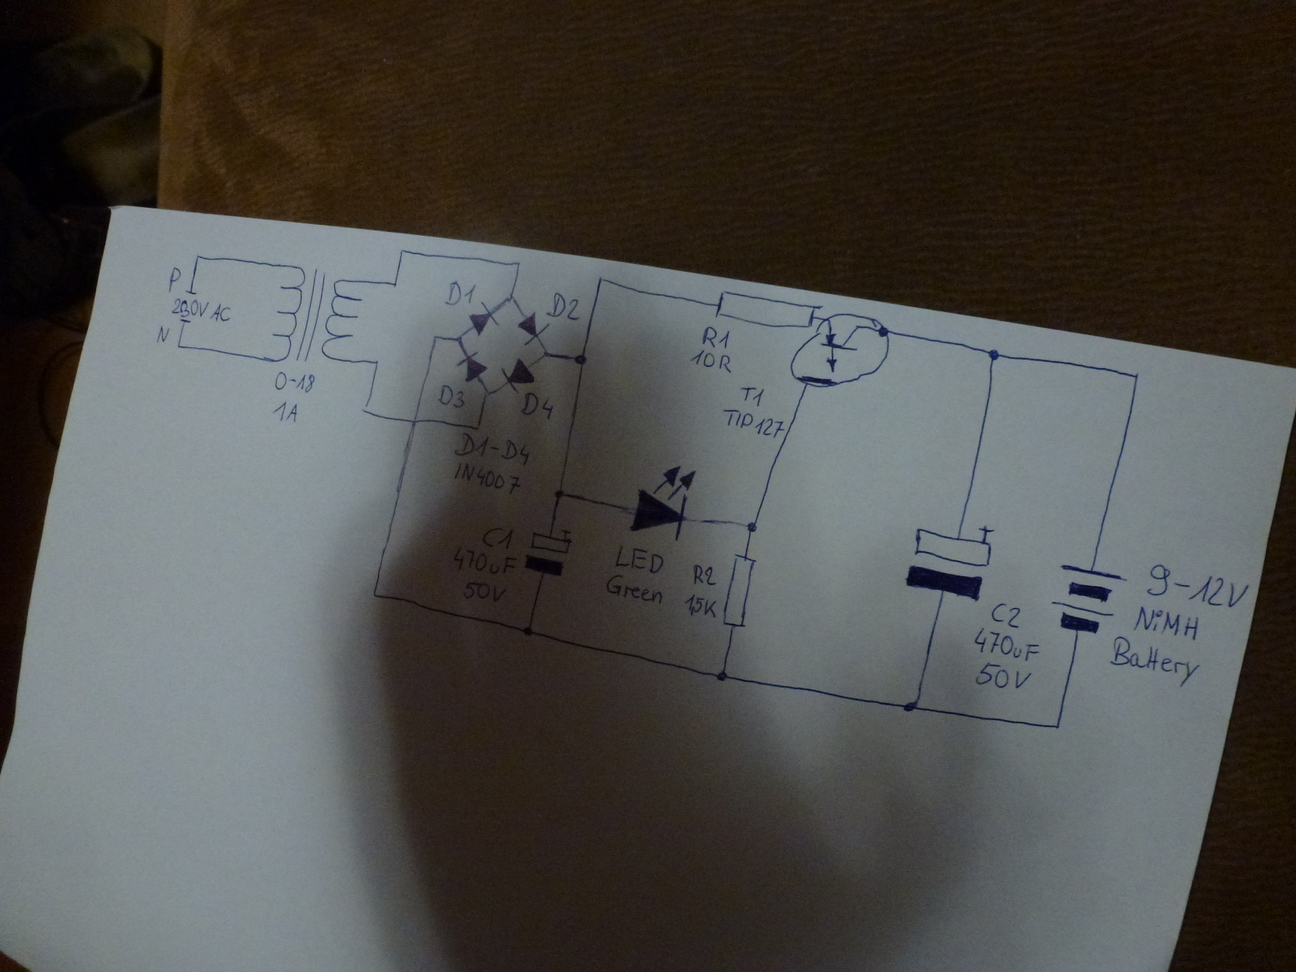capacitor.polarized: (902, 519, 1000, 606), (524, 525, 574, 580)
crossover: (408, 415, 420, 427)
diode: (499, 355, 537, 395), (516, 310, 550, 346), (455, 351, 489, 386), (468, 302, 503, 335)
diode.light_emitting: (629, 463, 698, 544)
junction: (984, 346, 1001, 363), (743, 518, 760, 535), (902, 698, 920, 715), (551, 486, 567, 502), (1128, 370, 1144, 383), (470, 421, 485, 434), (521, 623, 534, 638), (574, 351, 586, 367), (360, 403, 373, 417), (455, 331, 467, 345), (715, 668, 727, 683), (1051, 720, 1064, 732), (482, 386, 494, 398), (505, 291, 516, 304), (595, 275, 607, 286), (540, 348, 550, 361), (193, 252, 204, 263), (390, 278, 400, 290), (371, 357, 383, 368), (370, 588, 380, 600), (431, 333, 441, 343), (513, 258, 524, 269), (175, 341, 184, 352), (398, 247, 408, 256)
resistor: (712, 288, 821, 330), (718, 554, 759, 629)
terminal: (182, 288, 200, 298), (176, 317, 193, 326)
text: (1108, 633, 1201, 689), (1143, 562, 1251, 610), (451, 431, 532, 467), (452, 460, 524, 497), (1130, 606, 1200, 643), (971, 627, 1039, 664), (451, 546, 519, 579), (605, 574, 665, 607), (722, 407, 786, 436), (612, 544, 664, 578), (974, 662, 1033, 691), (170, 297, 234, 323), (462, 580, 509, 605), (273, 368, 317, 394), (480, 523, 516, 553), (547, 290, 581, 321), (687, 348, 733, 371), (520, 392, 556, 421), (989, 601, 1021, 631), (444, 279, 478, 306), (684, 592, 718, 619), (700, 324, 730, 352), (436, 385, 466, 410), (737, 384, 767, 409), (690, 561, 717, 588), (270, 399, 300, 424), (166, 265, 183, 294), (155, 325, 170, 345)
transformer: (259, 264, 365, 364)
transistor: (794, 312, 892, 392)
voltage.dc: (1047, 561, 1130, 636)
